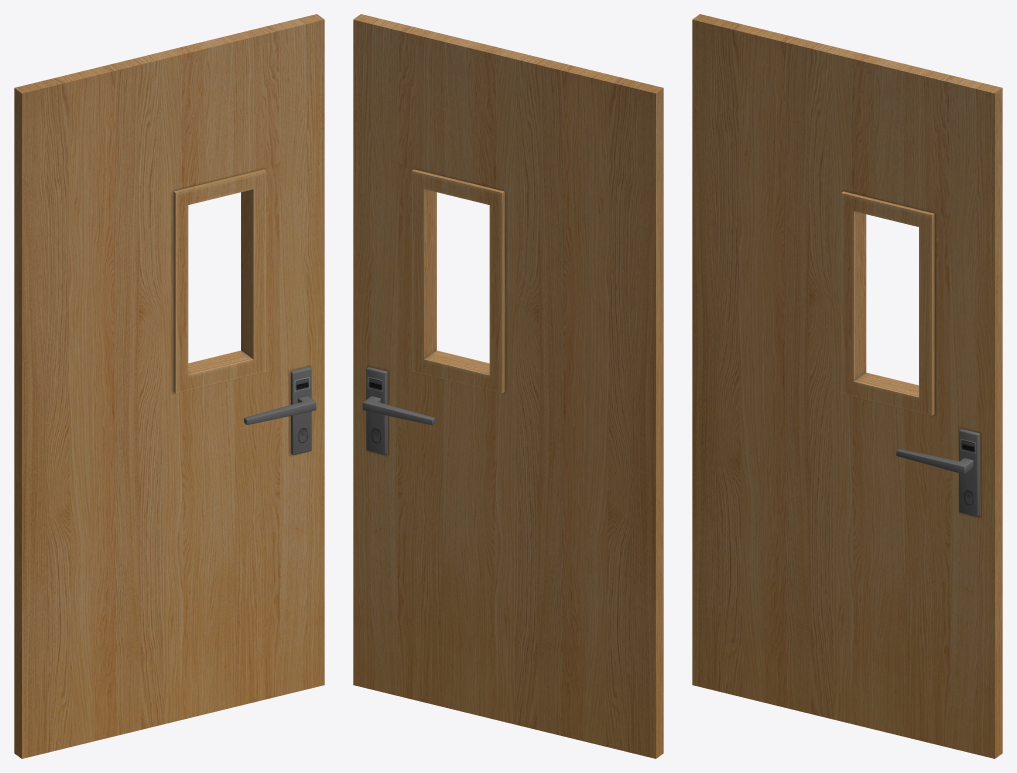
The model's file is door double.FBX.
3 views of the same model, side by side, from view 1: azimuth 30°, elevation 25°; view 2: azimuth 150°, elevation 25°; view 3: azimuth 330°, elevation 25° (orthographic).
Parts seen in each view (by area): view 1: door double; view 2: door double; view 3: door double.
Part boxes in pixels (x1,y1,x2,y2): door double: (14,14,324,758); door double: (353,14,663,758); door double: (692,14,1002,758).
Size of the model in its own units: 38.4 by 6.58 by 80.64.
